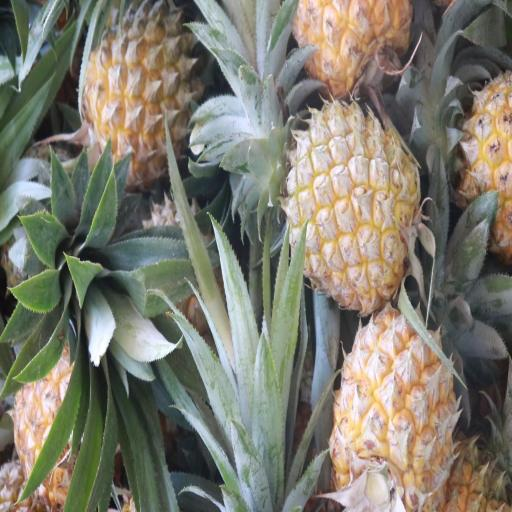------------------------------: (84, 3, 196, 176)
Pineapple - v8 v1: (285, 103, 417, 309), (332, 305, 457, 512), (428, 58, 512, 257)
